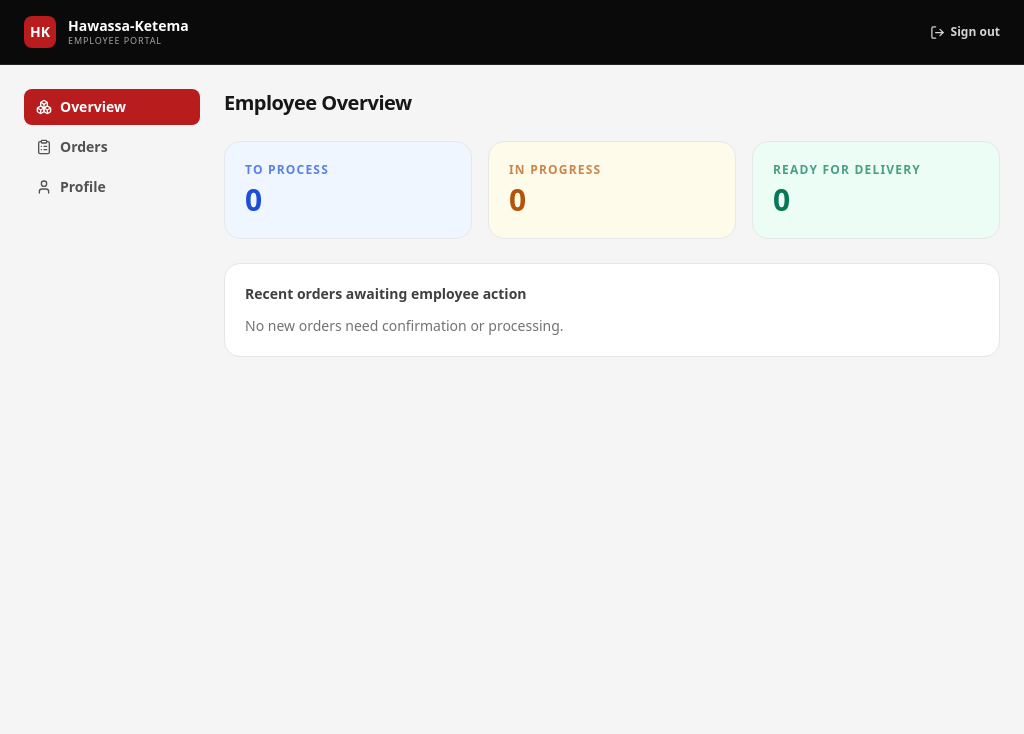
it: employee profile › loads and saves profile details using the authenticated profile endpoint
Click the button "Profile": (112, 187) left=24, top=169, right=200, bottom=205
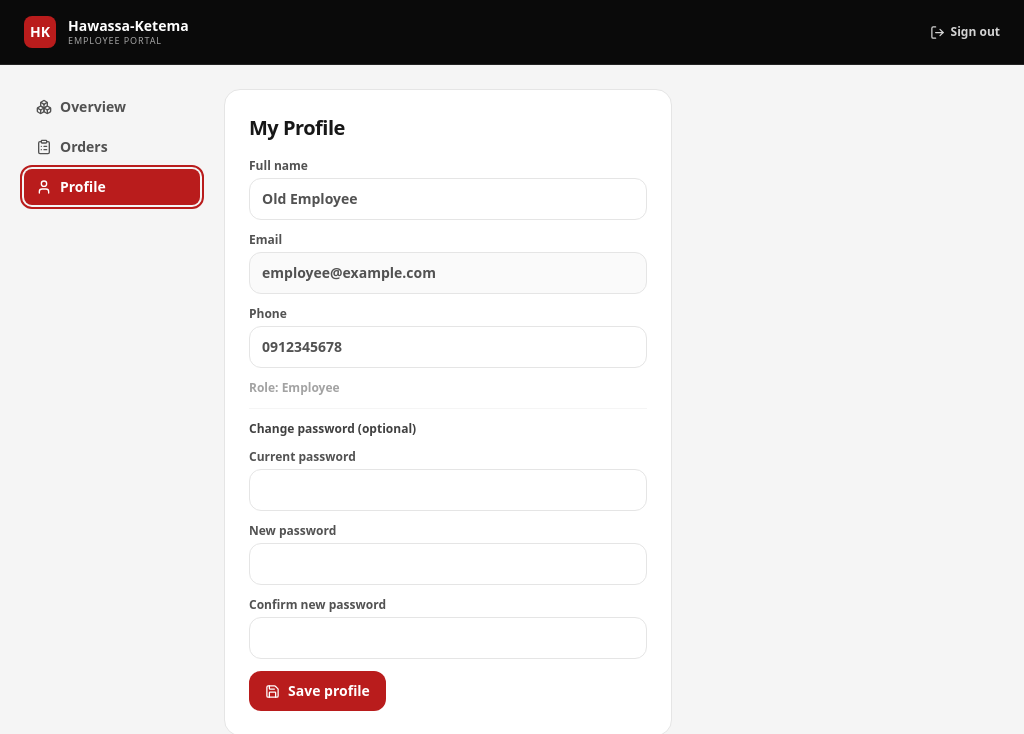
Replace the text in the field labelled "Full name" with "Updated Employee": (448, 199) left=249, top=178, right=647, bottom=220
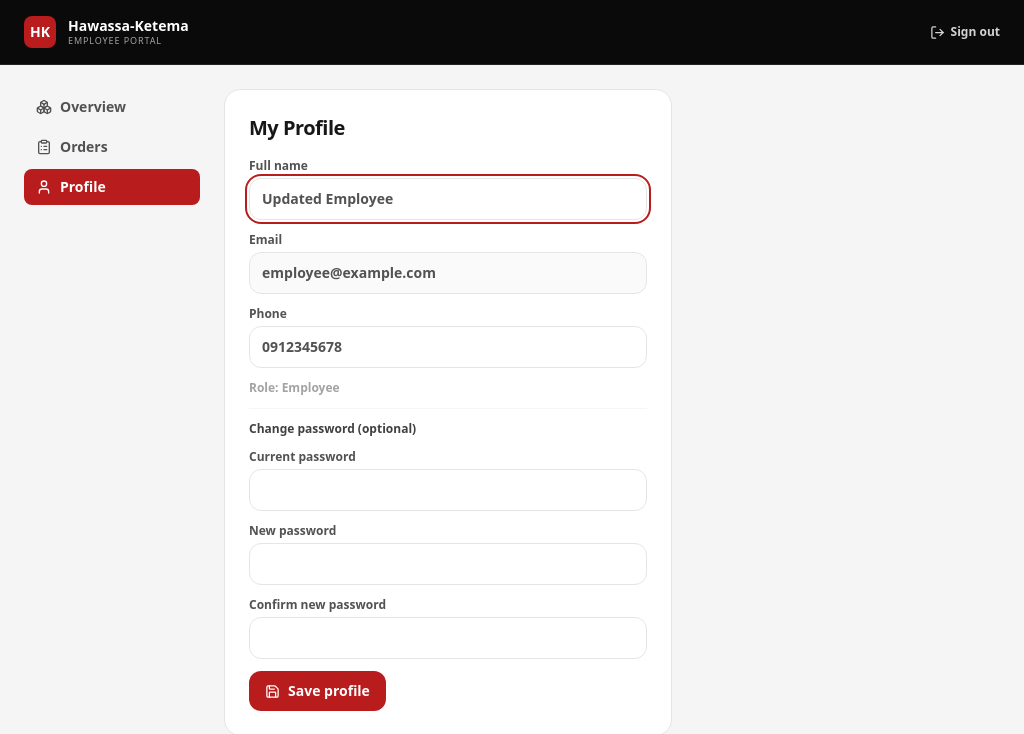
Replace the text in the field labelled "Phone" with "0998765432": (448, 347) left=249, top=326, right=647, bottom=368
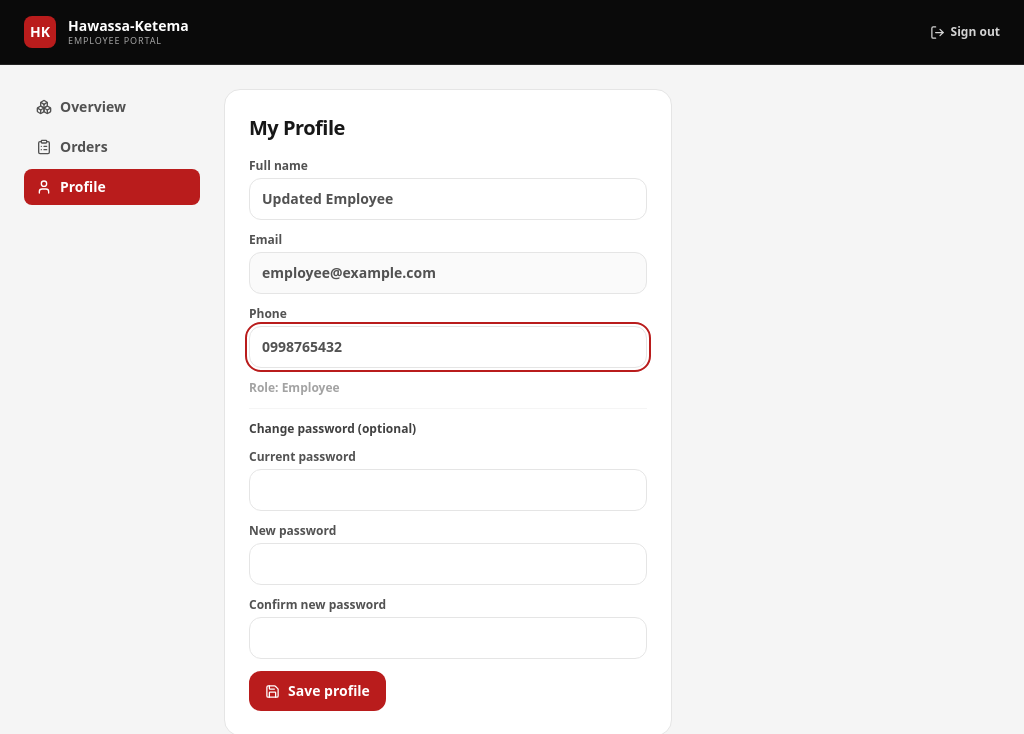
Click the button "Save profile": (317, 691) left=249, top=671, right=386, bottom=711
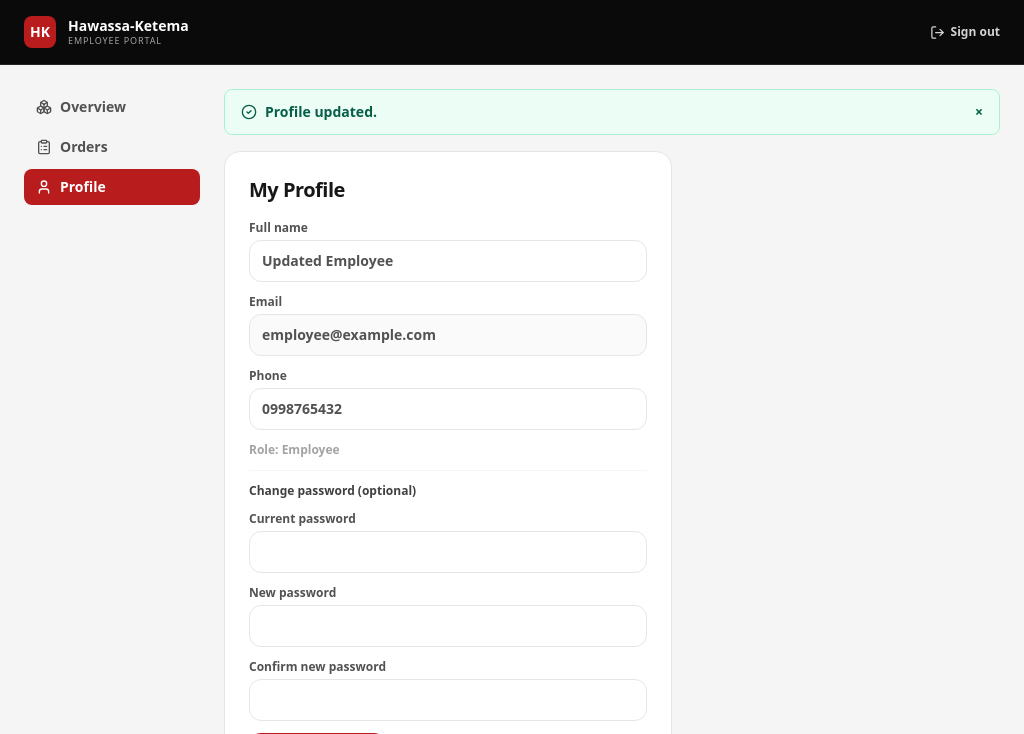
Check: the text "Profile updated." is shown, box left=265, top=102, right=377, bottom=121
